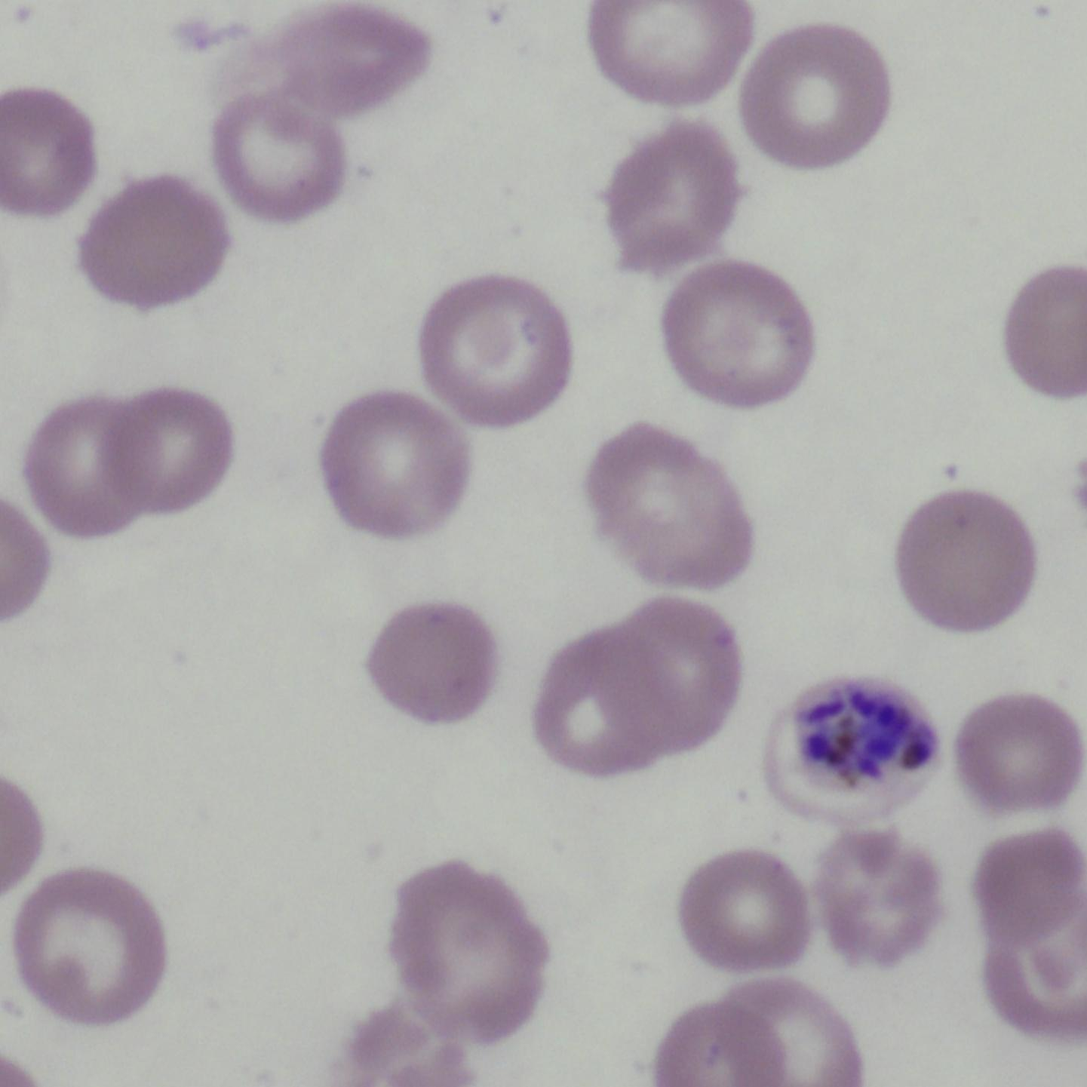Infected: (759, 677, 942, 829)
Uninfected: (581, 418, 756, 591), (392, 858, 546, 1047), (15, 863, 163, 1027), (739, 23, 890, 175), (417, 275, 567, 424), (659, 262, 815, 404), (593, 604, 733, 757), (324, 391, 468, 539), (80, 169, 231, 304), (603, 114, 733, 270), (900, 486, 1039, 631), (25, 396, 163, 539), (533, 632, 664, 772), (93, 388, 233, 518), (817, 826, 944, 966), (211, 94, 345, 223), (367, 596, 503, 721), (593, 0, 758, 102), (679, 853, 808, 976), (955, 692, 1083, 809)
